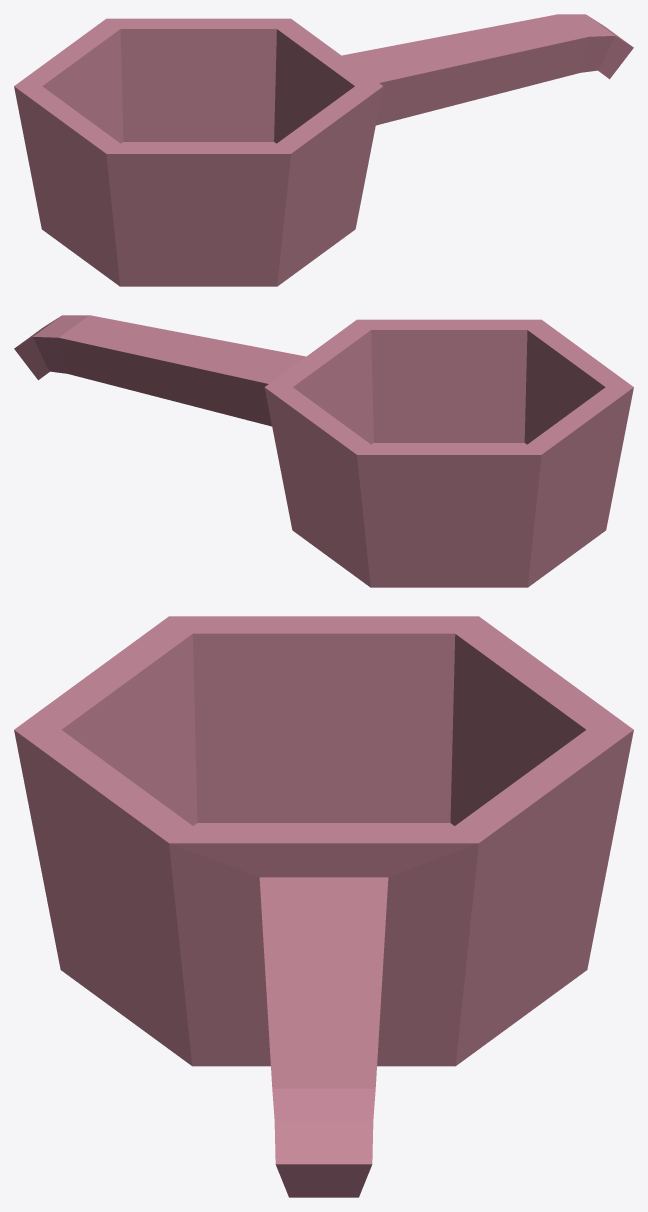
Rendered from dipper.fbx.
3 renders of one model, top to bottom at view 1: azimuth 30°, elevation 25°; view 2: azimuth 150°, elevation 25°; view 3: azimuth 270°, elevation 25°, orthographic. The views are drawn at different scales.
Parts seen in each view (by area): view 1: dipper; view 2: dipper; view 3: dipper.
Part boxes in pixels (left/top/right/bottom): dipper: left=14, top=14, right=633, bottom=286; dipper: left=14, top=315, right=633, bottom=587; dipper: left=14, top=616, right=633, bottom=1197.
Size of the model in its own units: 178 by 43.5 by 102.
